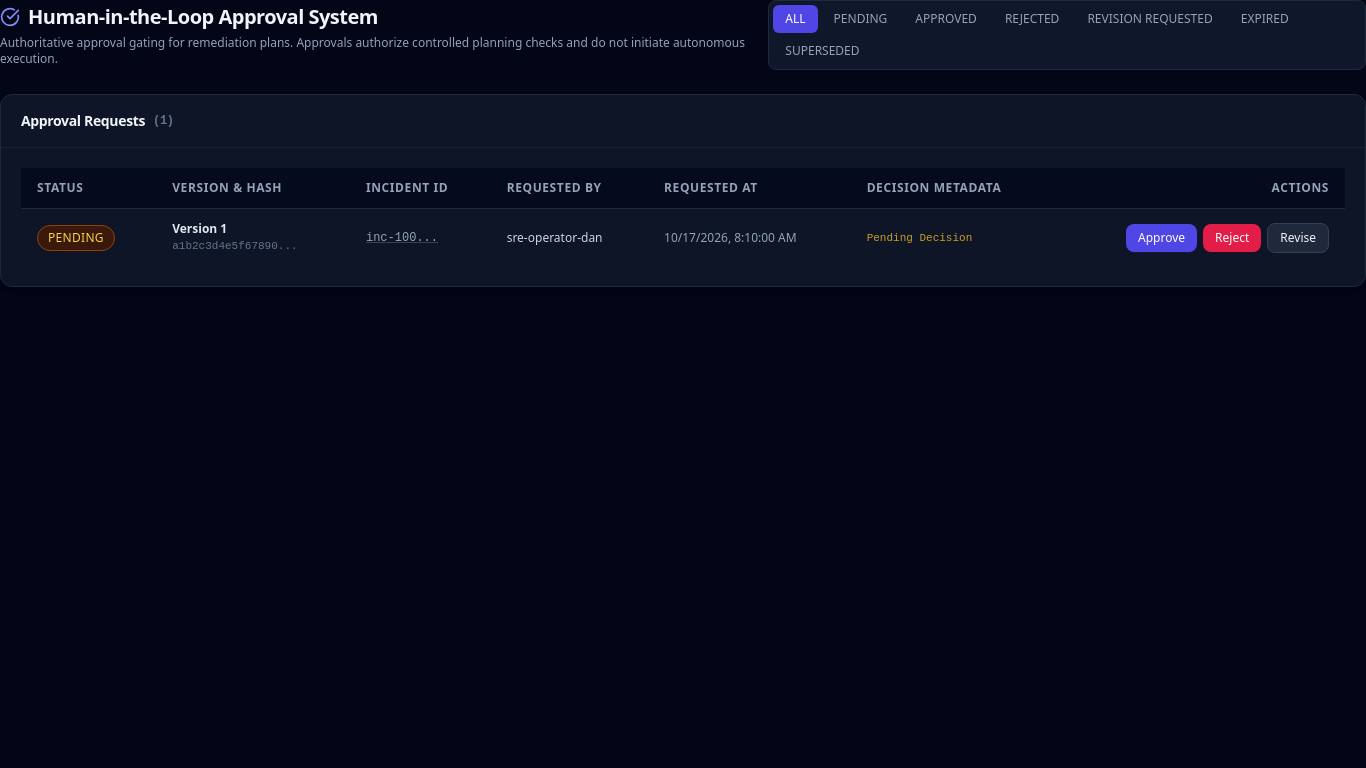
Test case: ApprovalsPage & Human-in-the-Loop Decisions › opens review modal on clicking approve and displays exact plan snapshot
Click the button "Approve": (1162, 238) x1=1126 y1=224 x2=1197 y2=252
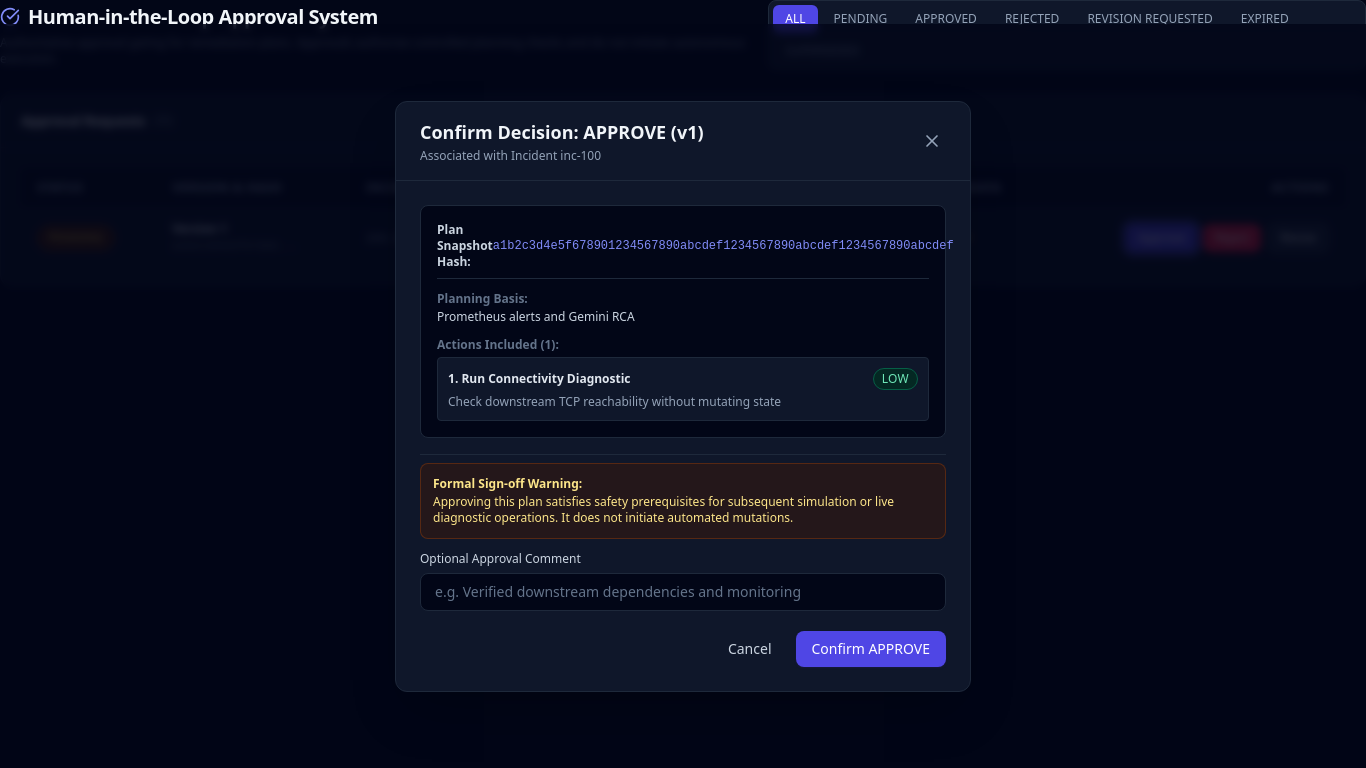
Now the text "1. Run Connectivity Diagnostic" is shown, box x1=448 y1=370 x2=630 y2=386
Now the text "Check downstream TCP reachability without mutating state" is shown, box x1=448 y1=392 x2=781 y2=410
